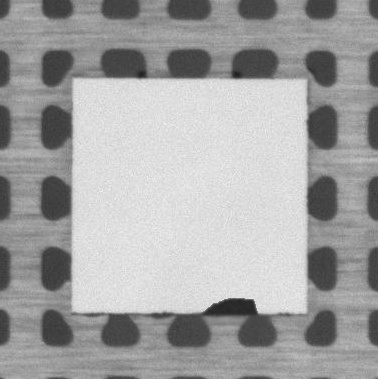DIE_BROKEN: (197, 295, 263, 317)
